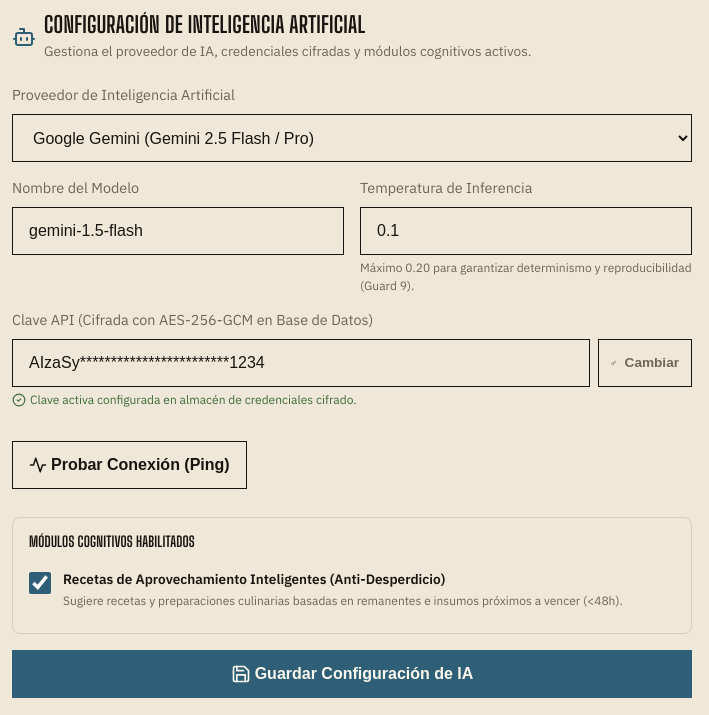
it: TK-123-FE: AiSettingsSection Component Suite › permite cambiar a proveedor HEURISTIC y muestra banner informativo sin inputs de LLM
Expected: the field showing "gemini-1.5-flash" is shown, [12,207,344,255]
Select "Motor Heurístico Local (Sin LLM / Sin conexión externa)" in the dropdown labelled "Proveedor de Inteligencia Artificial". click: [352, 138]
box: [12,114,692,162]
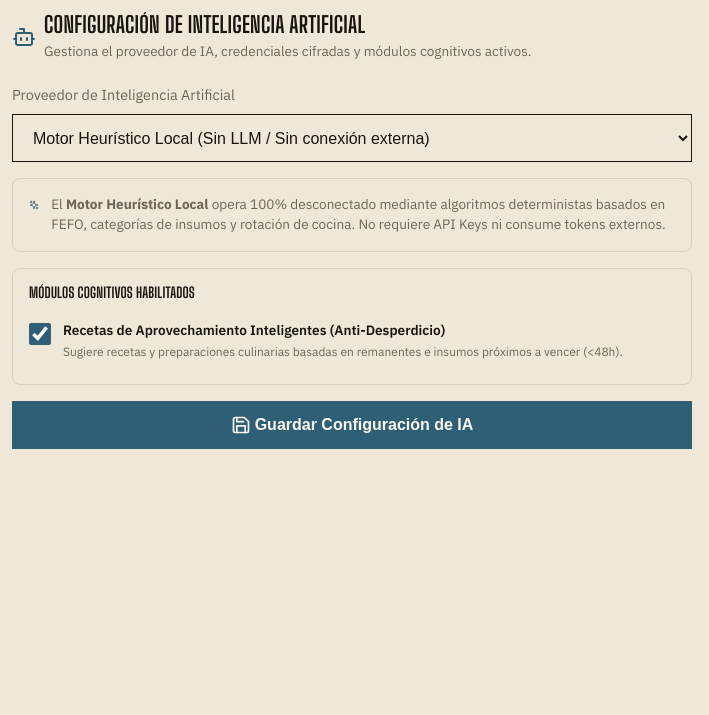
Expected: the text "opera 100% desconectado" is shown, [51,195,666,233]
Expected: the label labelled "Nombre del Modelo" is gone
